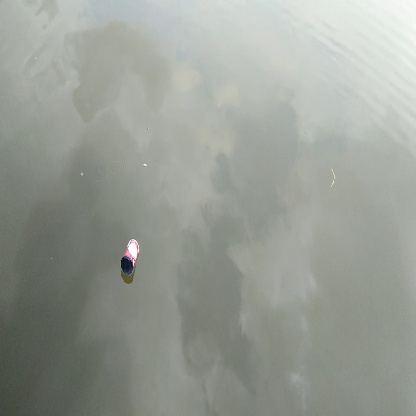bottle: (116, 236, 152, 274)
